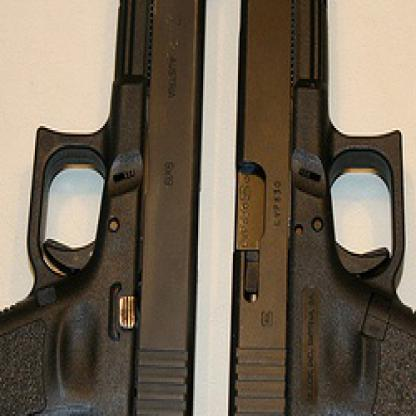gun: (0, 0, 218, 414), (213, 0, 414, 414)
